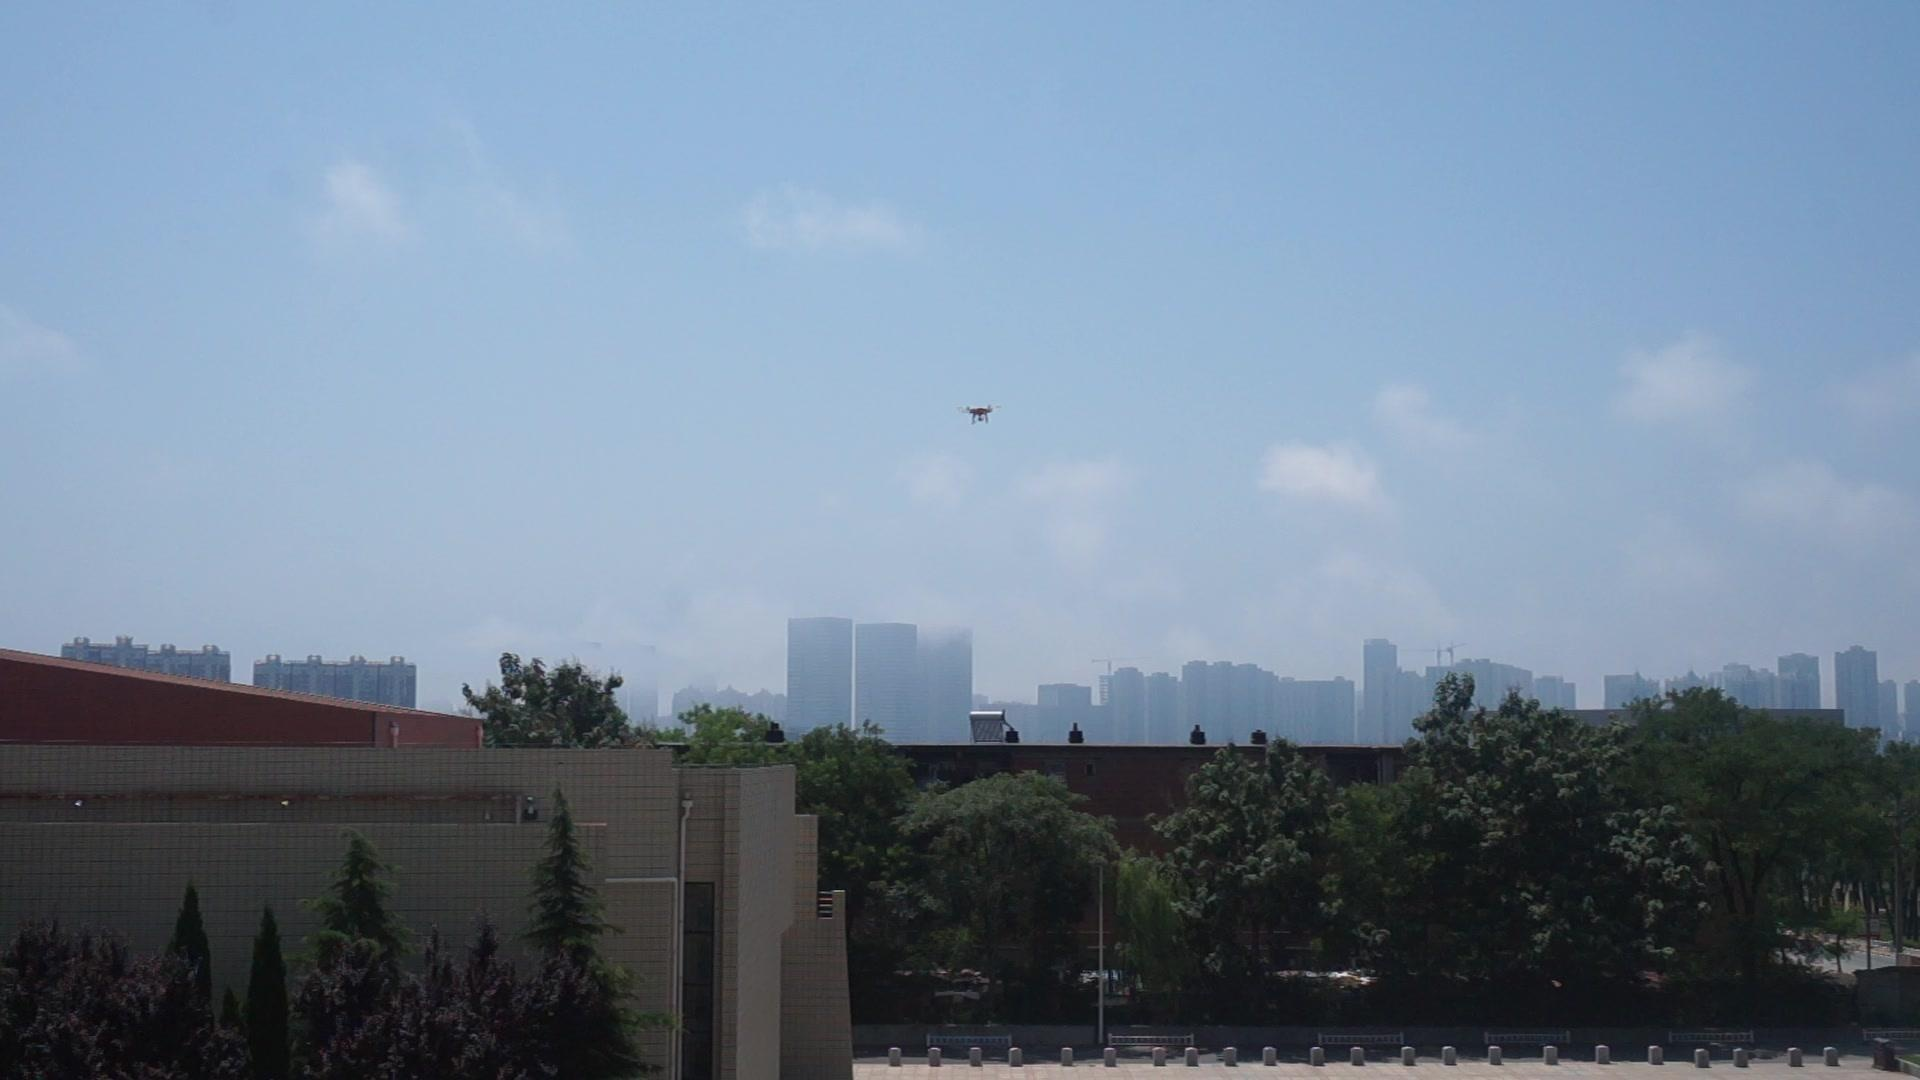UAV: (957, 404, 1004, 426)
